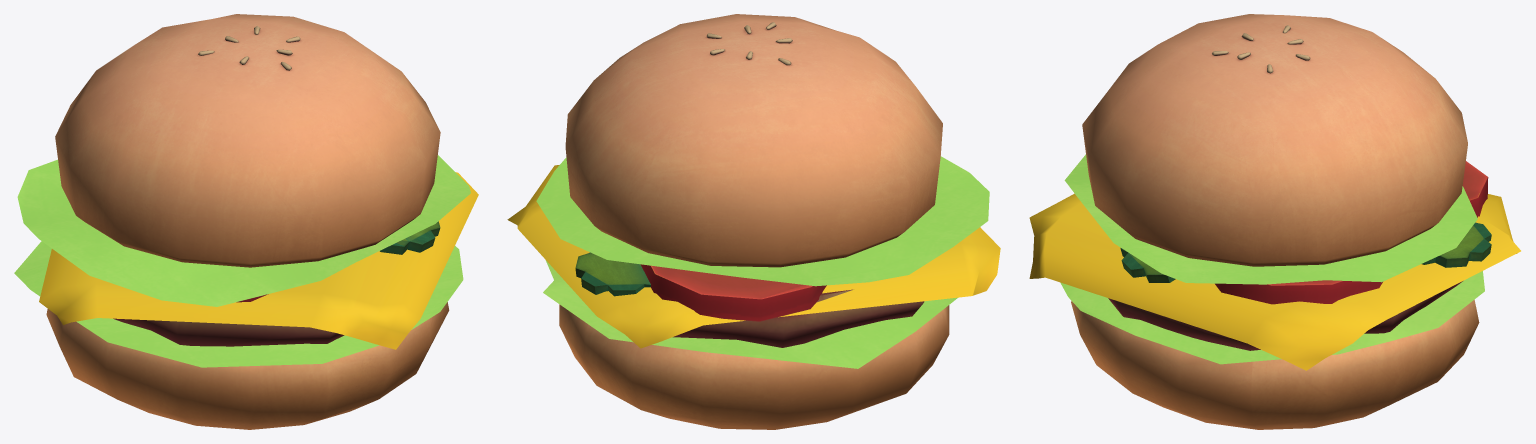
File: burger.fbx
The picture shows the model from 3 angles, left to right: view 1: azimuth 30°, elevation 25°; view 2: azimuth 150°, elevation 25°; view 3: azimuth 270°, elevation 25°; orthographic projection.
Parts seen in each view (by area): view 1: Burger; view 2: Burger; view 3: Burger.
Boxes of the visible parts, bbox=[...] form: Burger: bbox=[14, 14, 478, 429]; Burger: bbox=[507, 14, 1000, 429]; Burger: bbox=[1029, 14, 1520, 429].
Bounding box in the file's own units: 1.73 × 1.25 × 1.71.
1 material, 1 textured.
